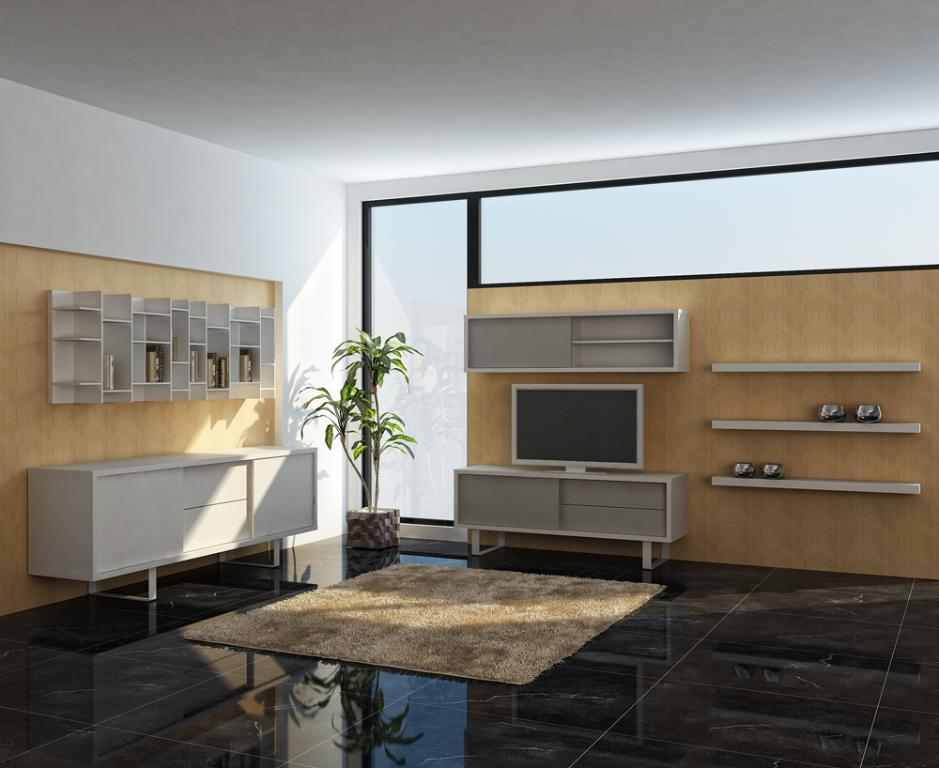cabinet_door: (95, 481, 184, 554), (474, 321, 568, 370), (461, 479, 554, 528), (256, 461, 313, 527), (568, 508, 658, 538), (562, 488, 660, 514), (572, 340, 662, 368), (184, 508, 249, 538), (575, 318, 668, 335), (184, 472, 245, 493)
